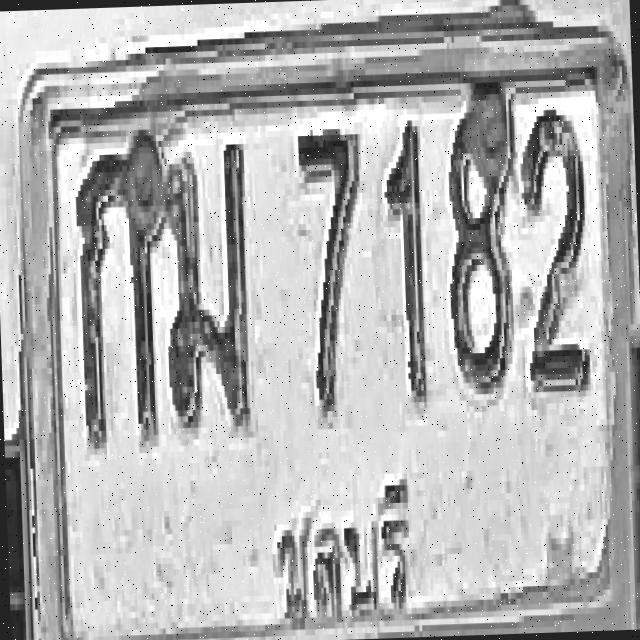1: (380, 117, 428, 406)
10GorGai: (72, 140, 165, 448)
2: (518, 102, 590, 392)
42MorMa: (160, 138, 252, 434)
7: (296, 122, 366, 417)
8: (442, 78, 520, 392)
Chonburi: (260, 461, 420, 640)
